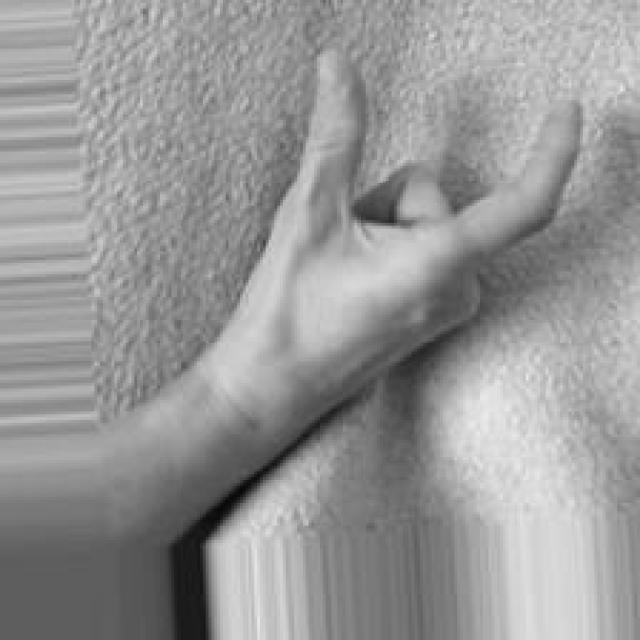U: (253, 43, 587, 428)
